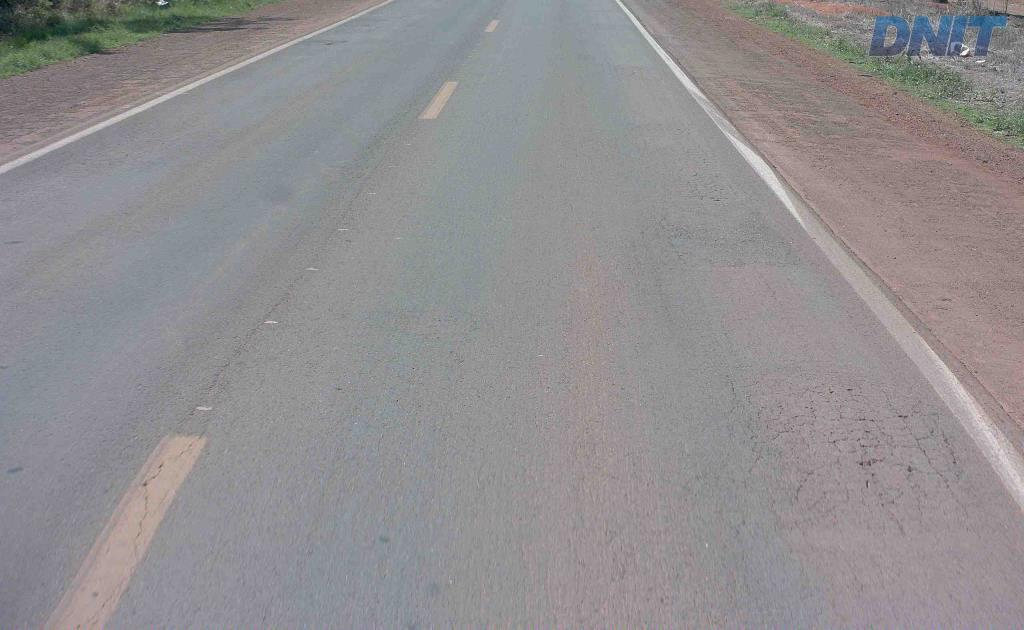crack: (855, 425, 885, 474)
